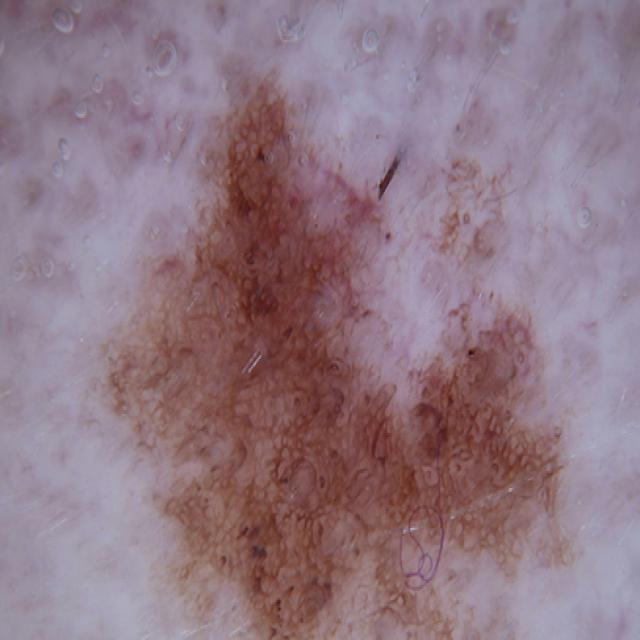Keratosis: (93, 78, 589, 640)
